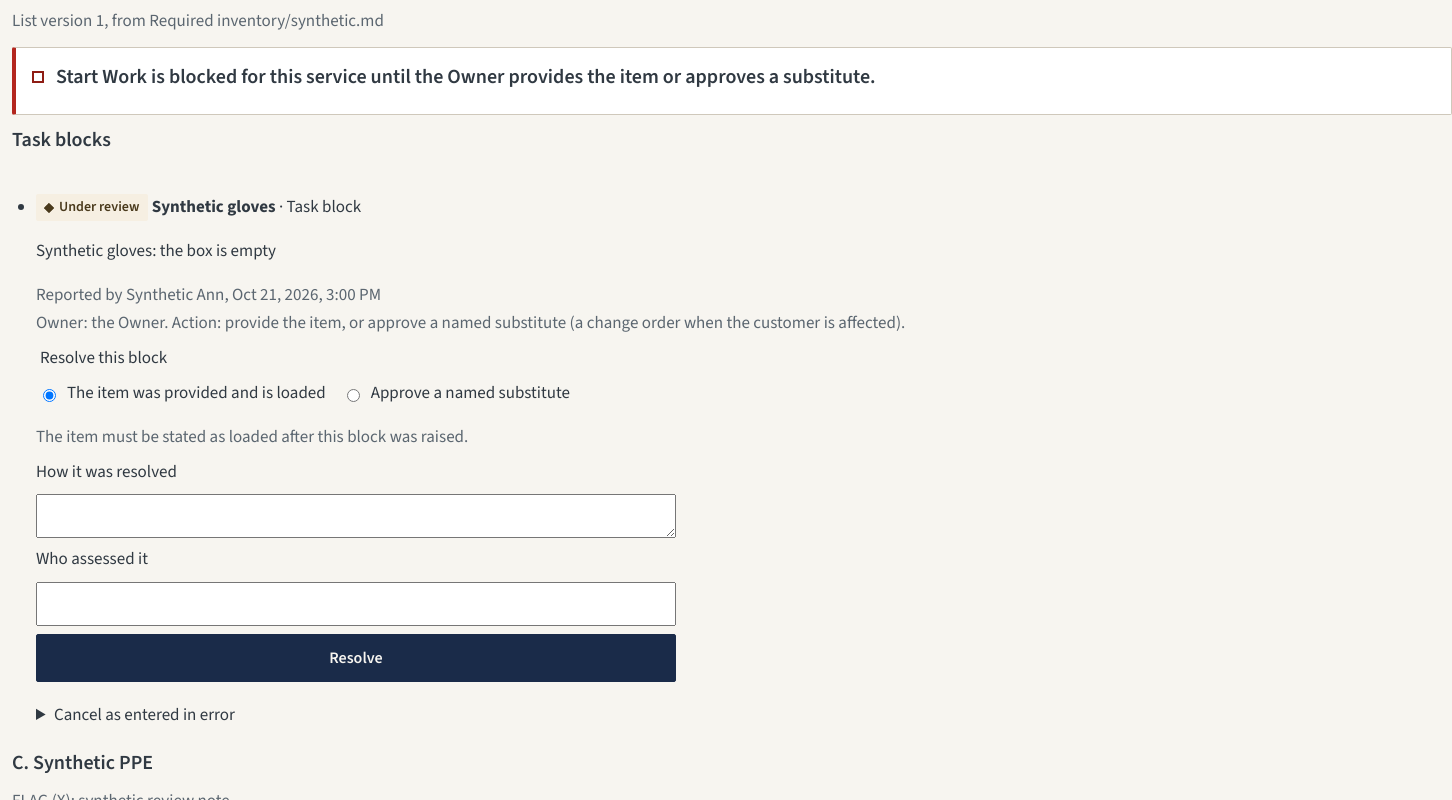
Test: task blocks (TSK-0071, HH-PKT-06, HH-WORK-02, T45) › [HH-PKT-06][HH-CHG-02] a substitute affecting the customer is refused as needing a change order
(page scrolled)
Step 1. Click the radio button labelled "Approve a named substitute" → (353, 396), box [347, 389, 360, 402]
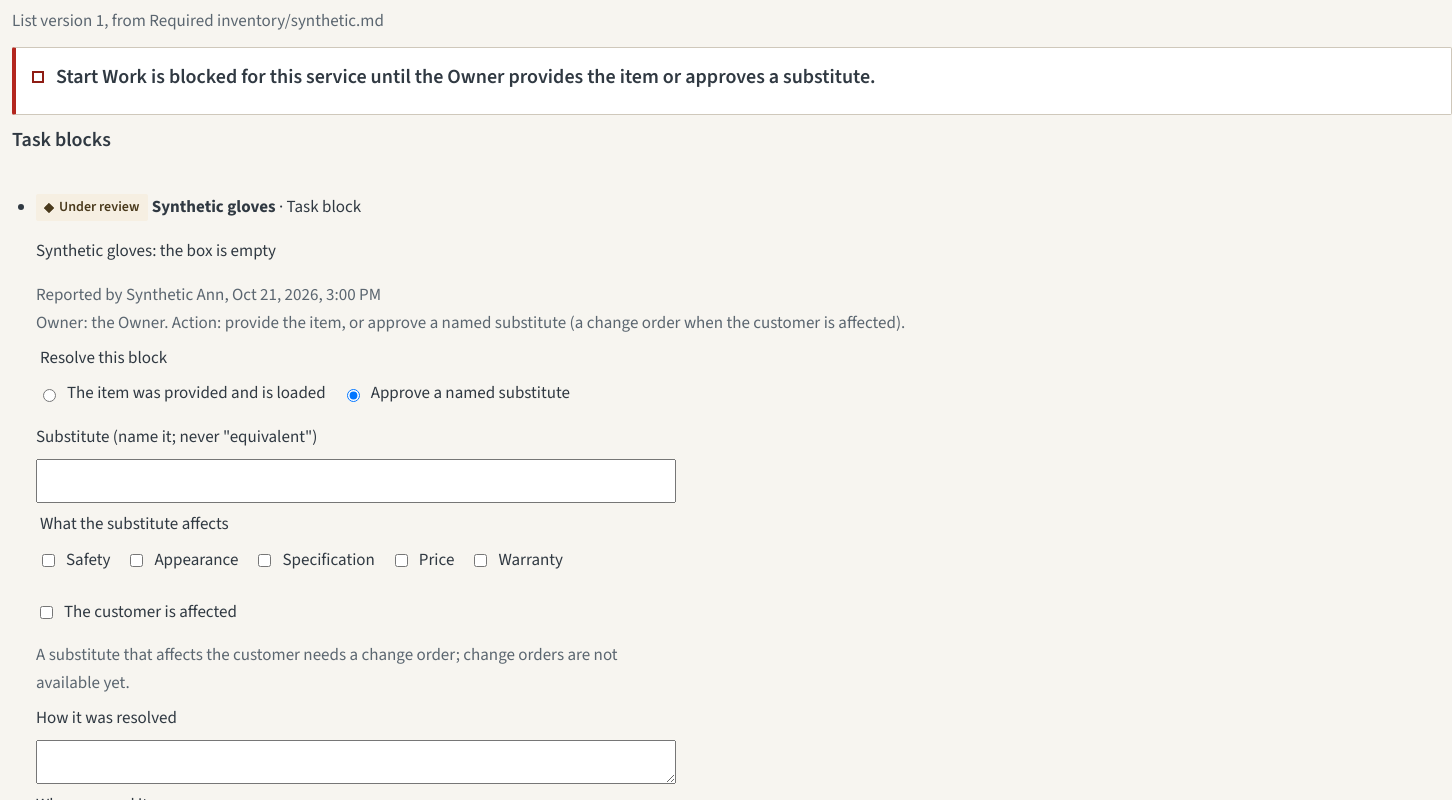
Step 2. Type "Synthetic other gloves" into the field labelled "Substitute (name it; never \"equivalent\")" → (356, 481), box [36, 459, 676, 503]
Step 3. Click the checkbox labelled "Specification" → (265, 560), box [258, 554, 272, 567]
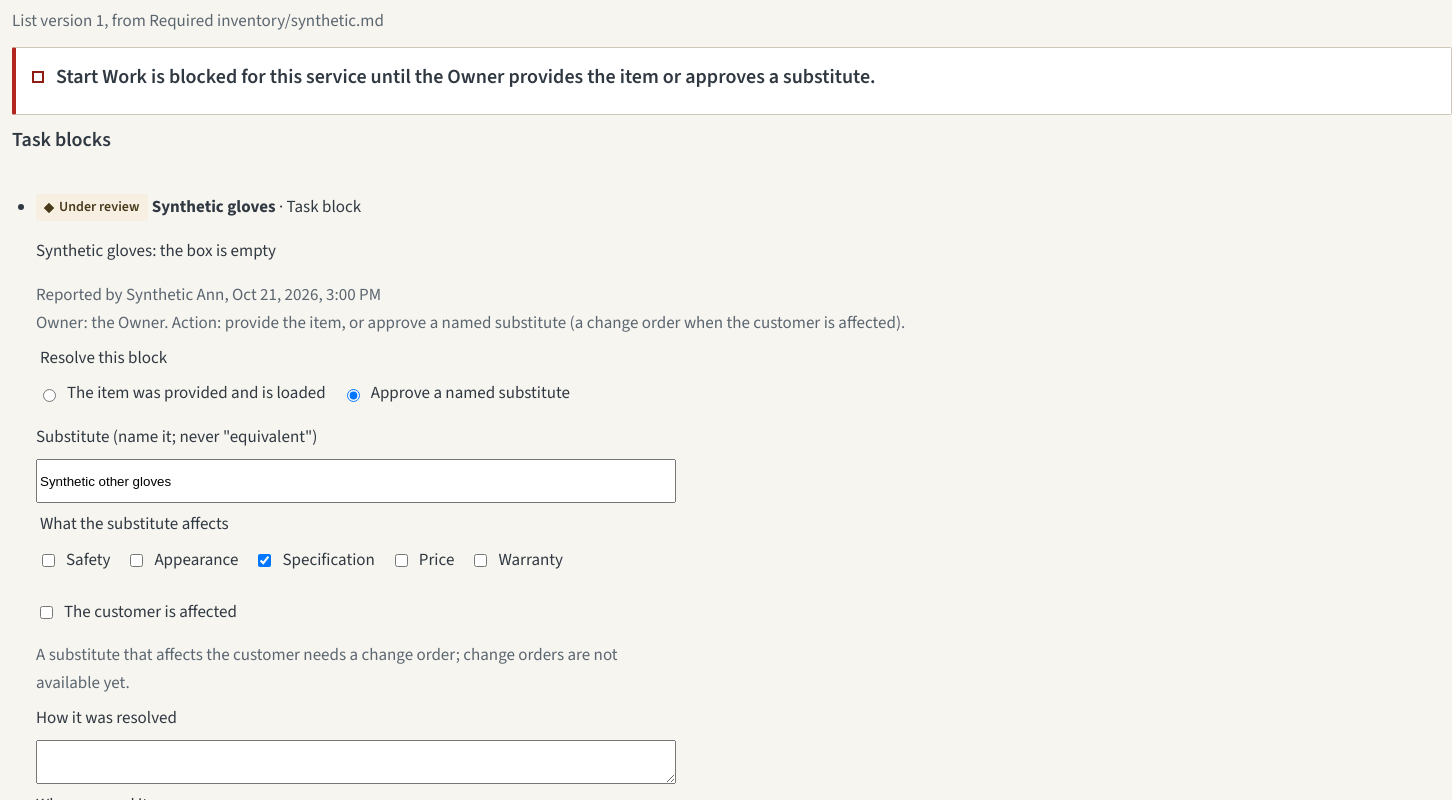
Step 4. Click the checkbox labelled "The customer is affected" → (46, 612), box [40, 606, 53, 619]
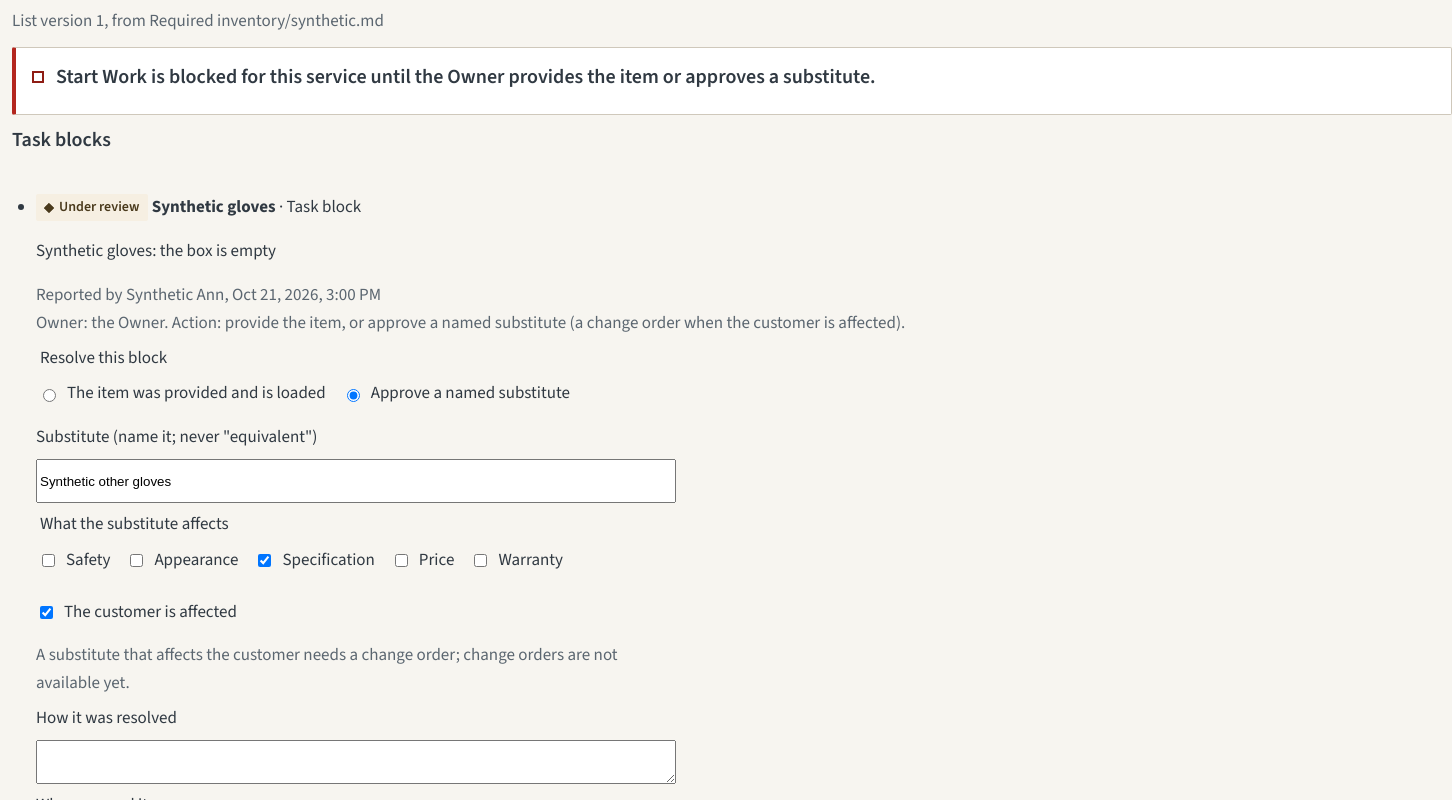
Step 5. Type "Synthetic note" into the text box labelled "How it was resolved" → (356, 762), box [36, 740, 676, 784]
(page scrolled)
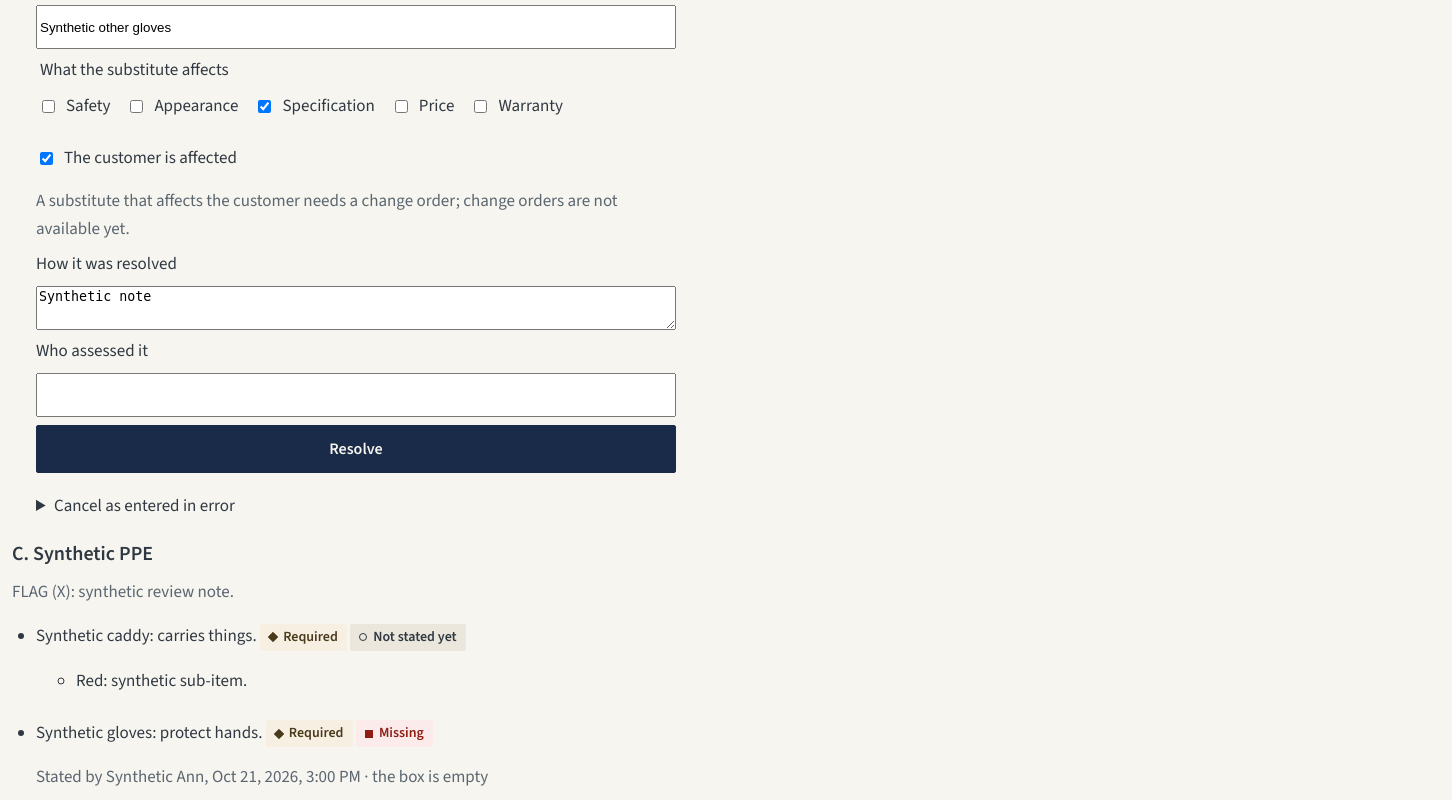
Step 6. Type "Synthetic Owner" into the field labelled "Who assessed it" → (356, 395), box [36, 373, 676, 417]
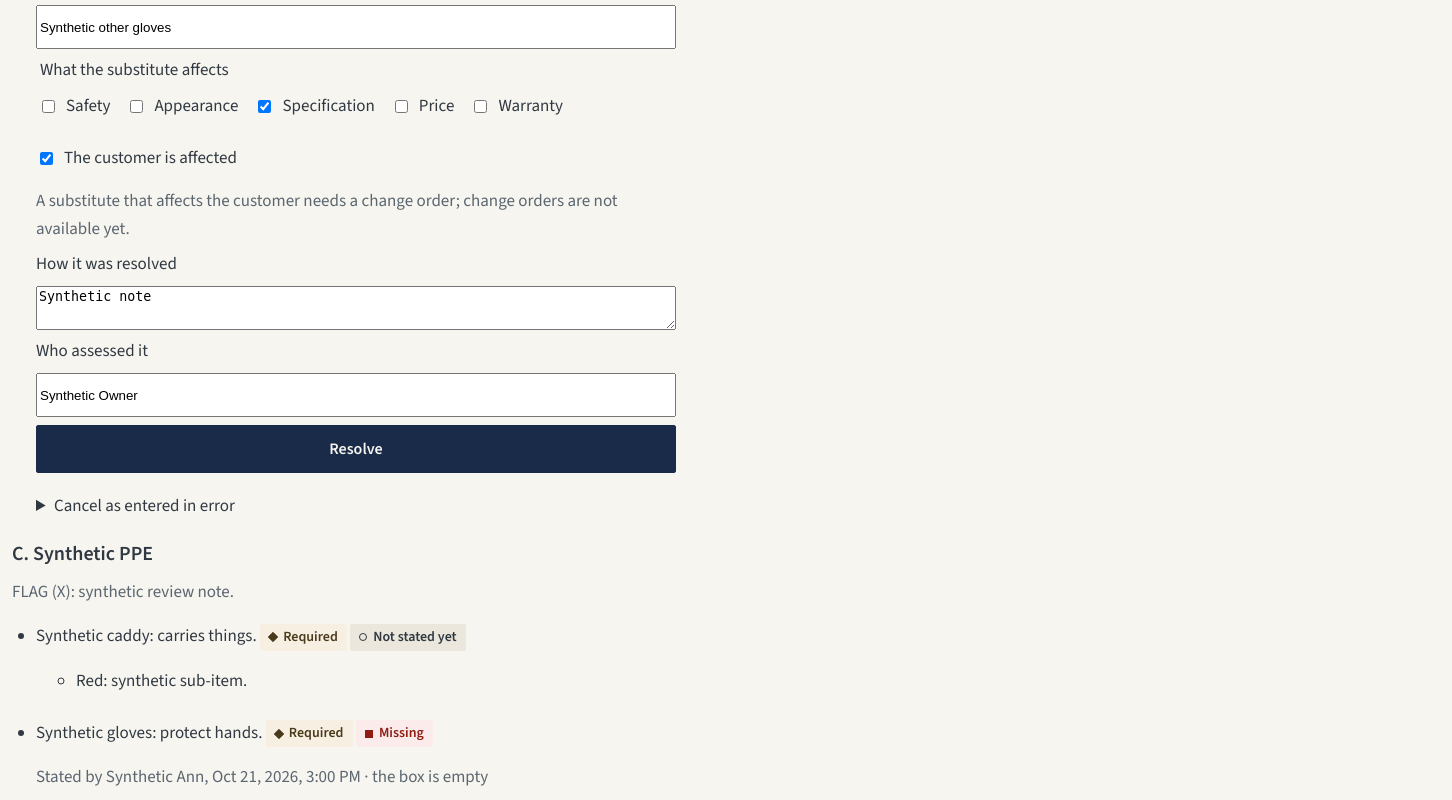
Step 7. Click the button "Resolve" → (356, 449), box [36, 425, 676, 473]
(page scrolled)
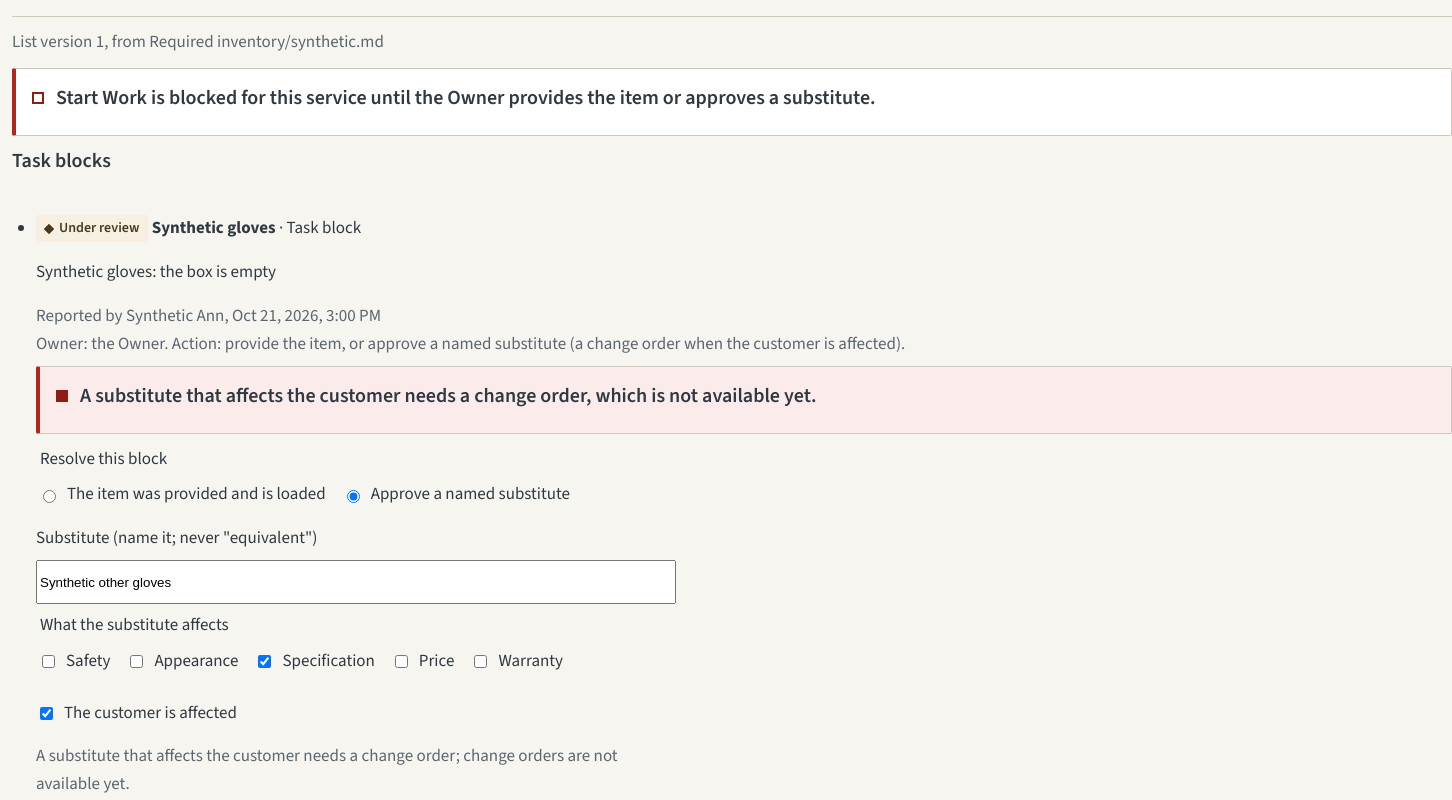
expect the text "A substitute that affects the customer needs a change order, which is not available yet." is shown: met, box [80, 382, 816, 410]
